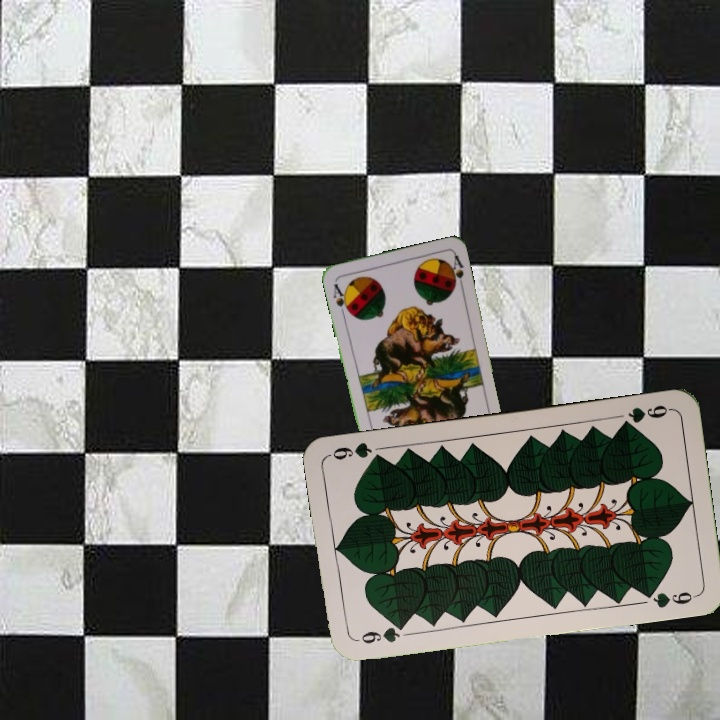G9: (616, 401, 674, 430), (352, 620, 409, 646)
SA: (329, 279, 353, 318)
